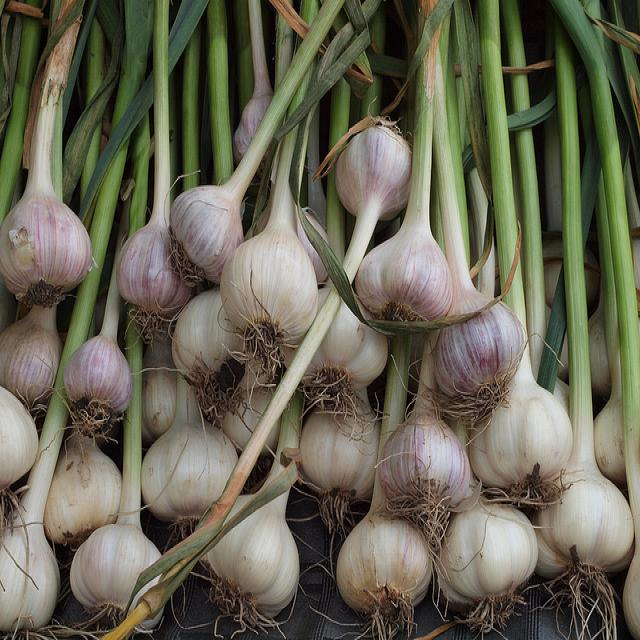garlic: (0, 188, 93, 309), (434, 502, 537, 606), (222, 232, 317, 342), (330, 512, 417, 632), (470, 391, 568, 496), (214, 514, 304, 624), (355, 227, 447, 321), (142, 420, 225, 521), (554, 472, 632, 578), (66, 522, 145, 621), (381, 410, 453, 510), (334, 118, 404, 218), (302, 408, 372, 504), (0, 524, 60, 635), (112, 218, 180, 310), (64, 330, 133, 418), (174, 183, 242, 266)
